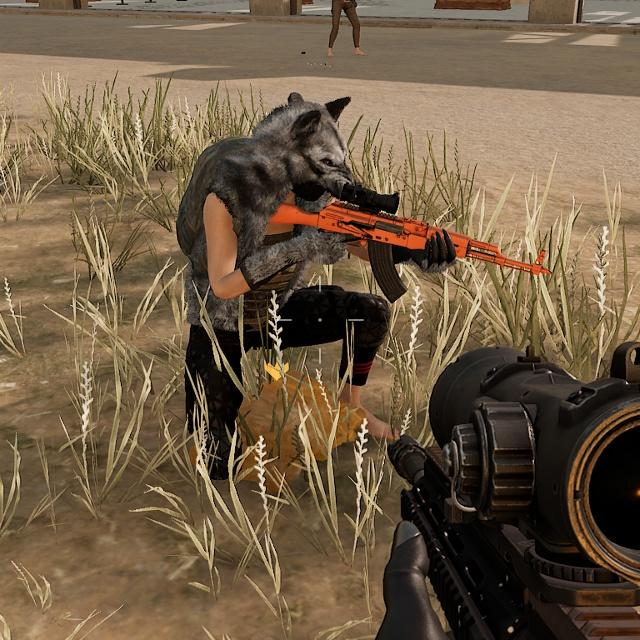head: (259, 93, 351, 208)
people: (157, 83, 417, 486), (314, 0, 378, 59)
